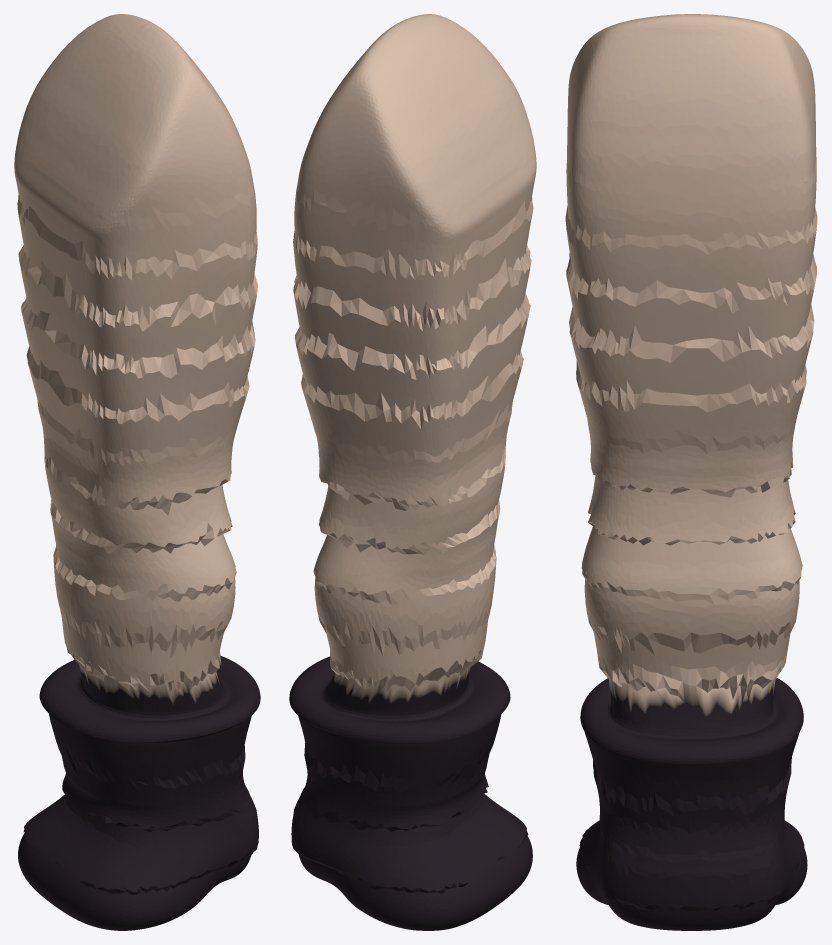
Rendered from leg_R.glb.
3 renders of one model, left to right at view 1: azimuth 30°, elevation 25°; view 2: azimuth 150°, elevation 25°; view 3: azimuth 270°, elevation 25°, orthographic. The views are drawn at different scales.
Visible parts, largest first — view 1: geometry_0; view 2: geometry_0; view 3: geometry_0.
Part boxes in pixels (box(x1,y1,x2,y2)): geometry_0: box(14, 14, 260, 930); geometry_0: box(289, 14, 536, 930); geometry_0: box(565, 14, 817, 930).
Size of the model in its own units: 0.3419 by 1.41 by 0.3567.
